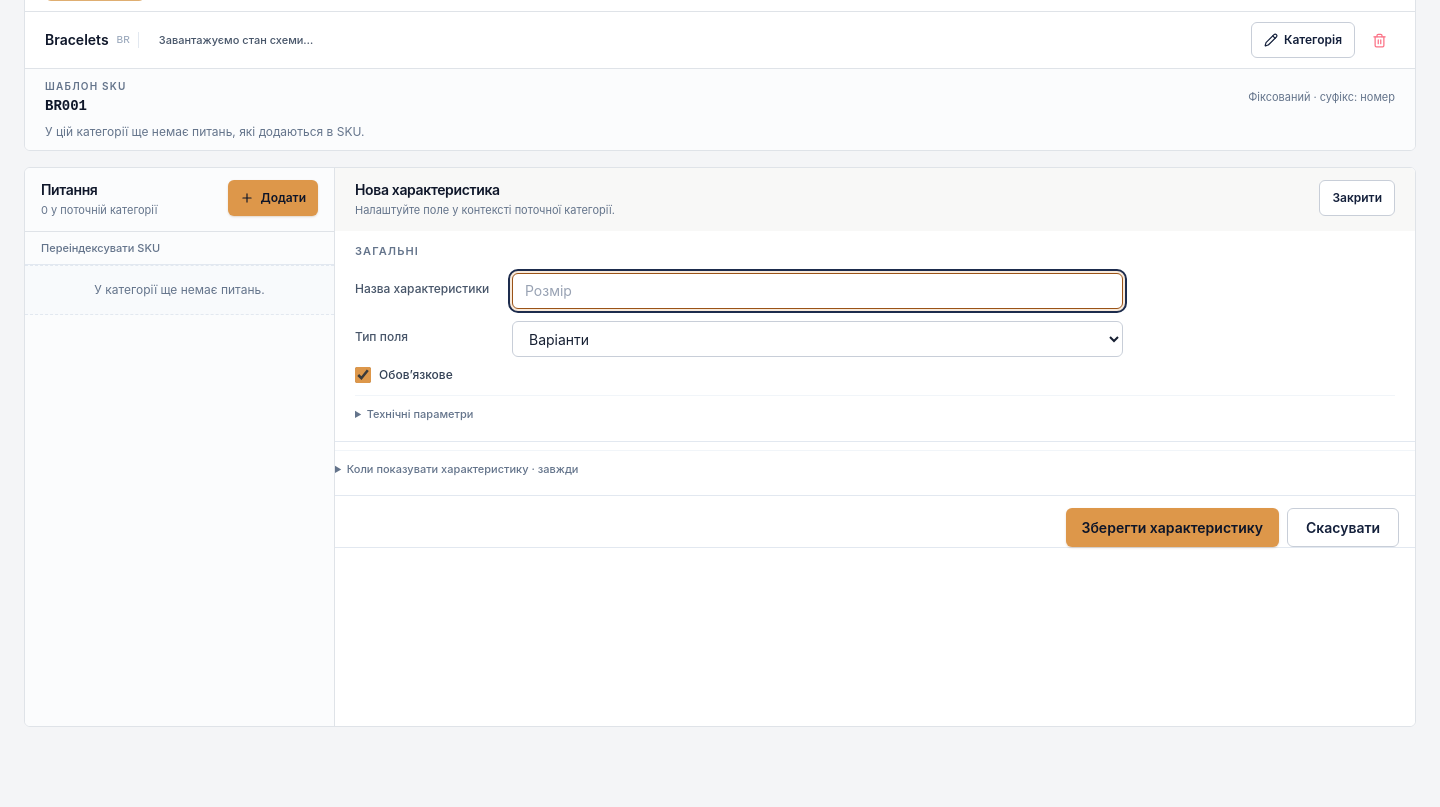
Test: opens the exact catalog context from Magento without writing or reopening a dismissed form
(page scrolled)
expect the field labelled "Назва характеристики" is shown: met, box [512,273,1123,309]
Click the button "Скасувати": (1343, 528) [1287,508,1399,547]
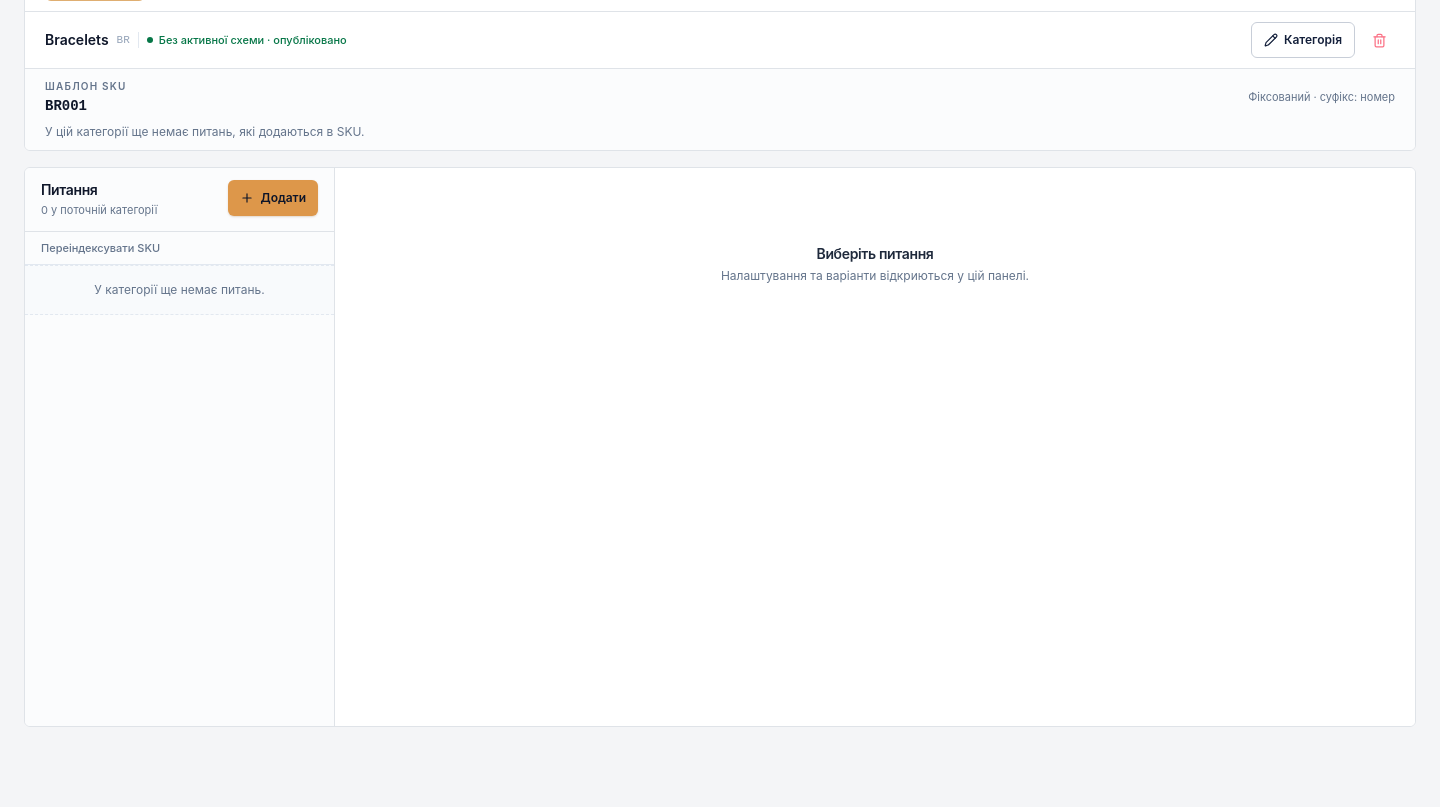
expect the text "Назва характеристики" is gone: met
